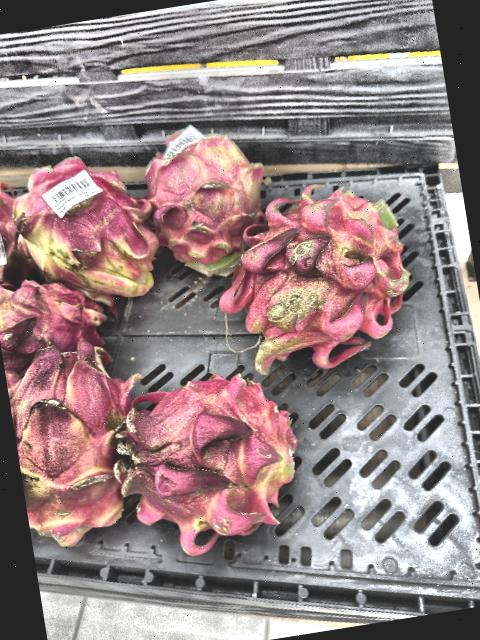buah-naga-belum-matang: (214, 176, 430, 374), (99, 364, 318, 548), (3, 338, 154, 552), (2, 152, 171, 316), (125, 113, 280, 284), (0, 263, 110, 373)
buah-naga-matang: (0, 178, 28, 280)
